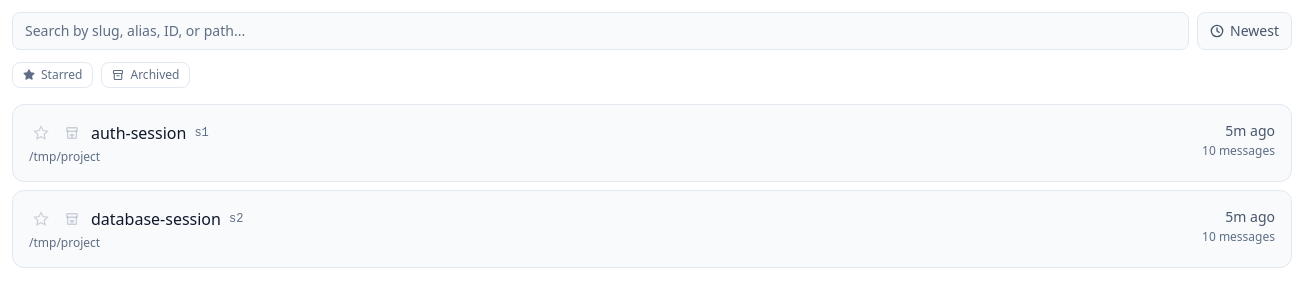
SessionList › filters sessions by search query
In the field with placeholder "Search by slug, alias, ID, or path...": [601, 31] box [12,12,1189,50], type "auth"
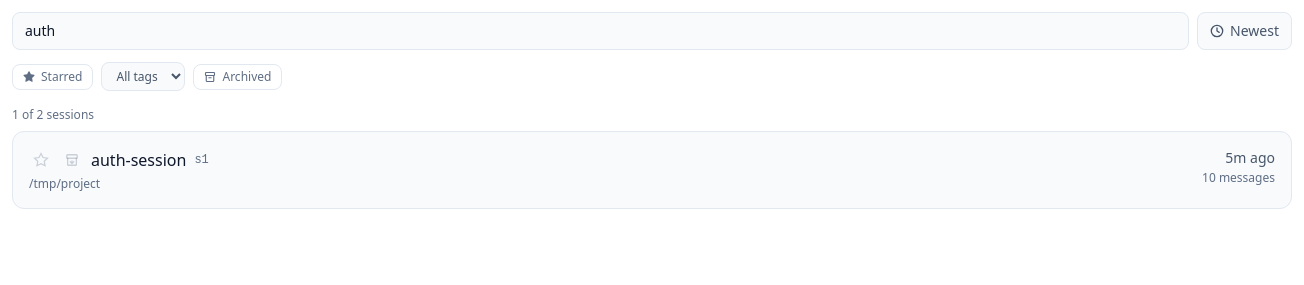
Expected: the text "auth-session" is shown, [91,148,186,172]
Now the link "database-session" is gone
